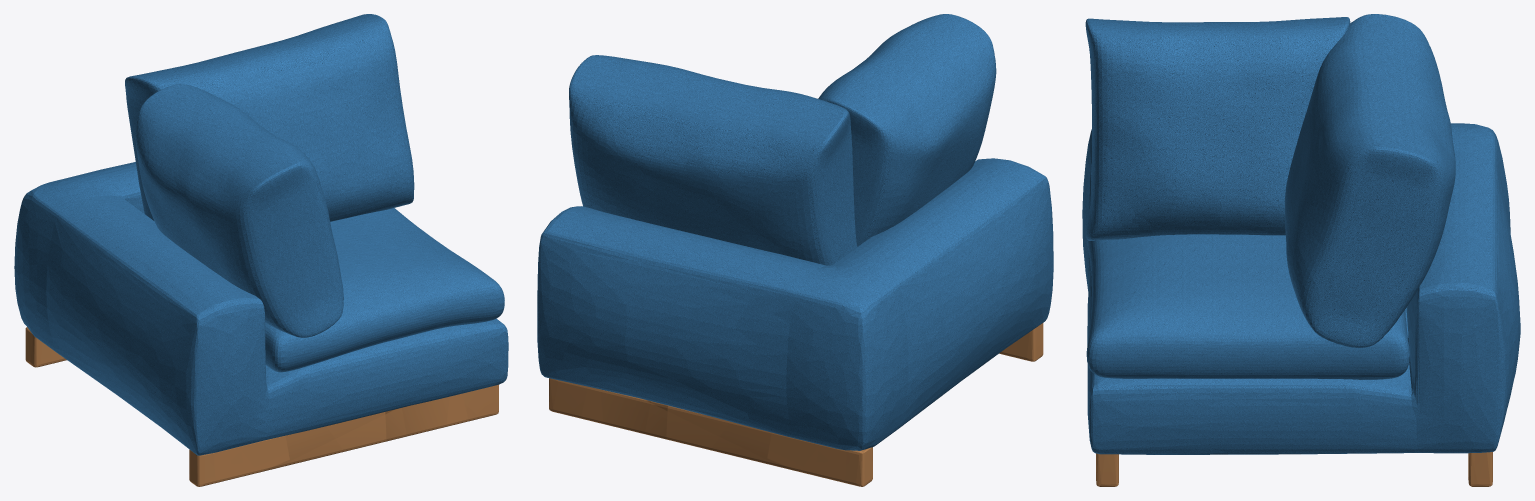
Rendered from couch_corner.gltf.
3 views of the same model, side by side, from view 1: azimuth 30°, elevation 25°; view 2: azimuth 150°, elevation 25°; view 3: azimuth 270°, elevation 25° (orthographic). The views are drawn at different scales.
Visible parts, largest first — view 1: Cube.044, Cube.046, Cube.006, Cube.045, Cube.047; view 2: Cube.044, Cube.006, Cube.046, Cube.047; view 3: Cube.044, Cube.046, Cube.006, Cube.045, Cube.047.
Part boxes in pixels (left/top/right/bottom): Cube.044: left=14, top=162, right=508, bottom=455; Cube.046: left=135, top=84, right=343, bottom=337; Cube.006: left=125, top=14, right=414, bottom=221; Cube.045: left=265, top=208, right=504, bottom=372; Cube.047: left=25, top=327, right=498, bottom=486; Cube.044: left=537, top=158, right=1053, bottom=450; Cube.006: left=569, top=55, right=857, bottom=265; Cube.046: left=818, top=14, right=996, bottom=246; Cube.047: left=549, top=323, right=1043, bottom=486; Cube.044: left=1082, top=123, right=1520, bottom=454; Cube.046: left=1085, top=17, right=1350, bottom=240; Cube.006: left=1285, top=14, right=1455, bottom=347; Cube.045: left=1086, top=234, right=1409, bottom=379; Cube.047: left=1096, top=452, right=1492, bottom=486.
Bounding box in the file's own units: 0.8432 × 0.7362 × 0.8464.
Materials: 2 (2 with a texture image).
